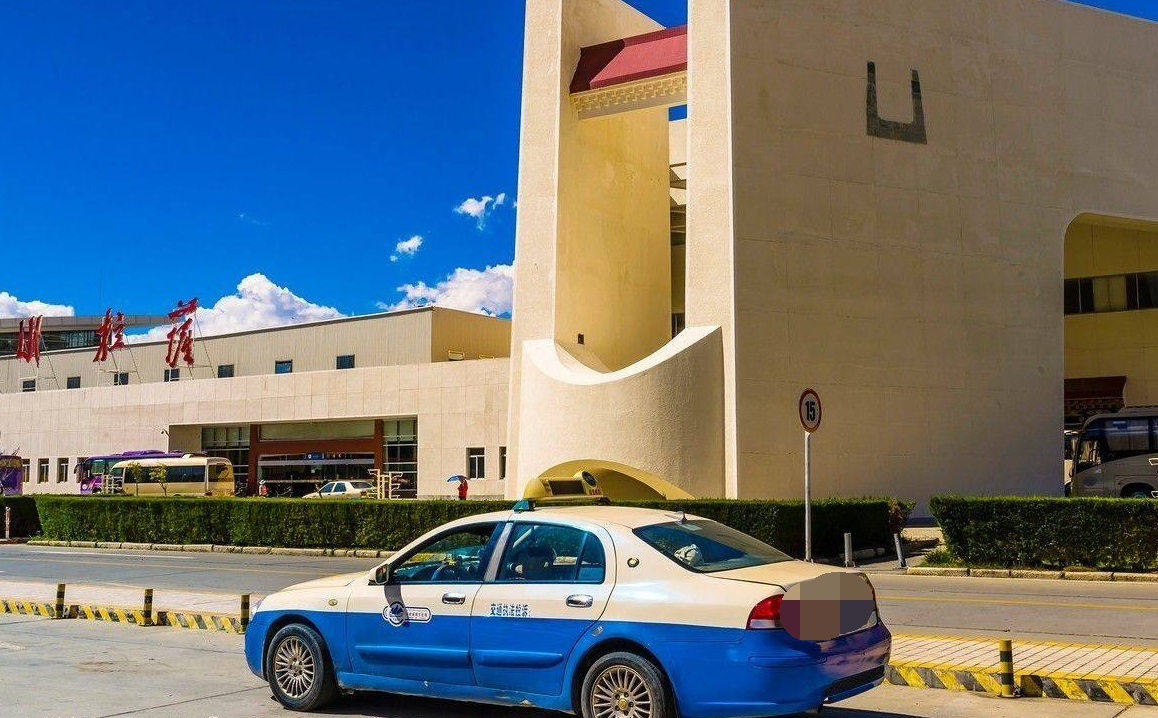taxi: (242, 468, 899, 718)
